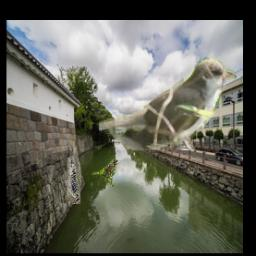Cuckoo: (100, 57, 238, 150)
Sparrow: (91, 159, 119, 188)
Woodpecker: (66, 148, 80, 205)
